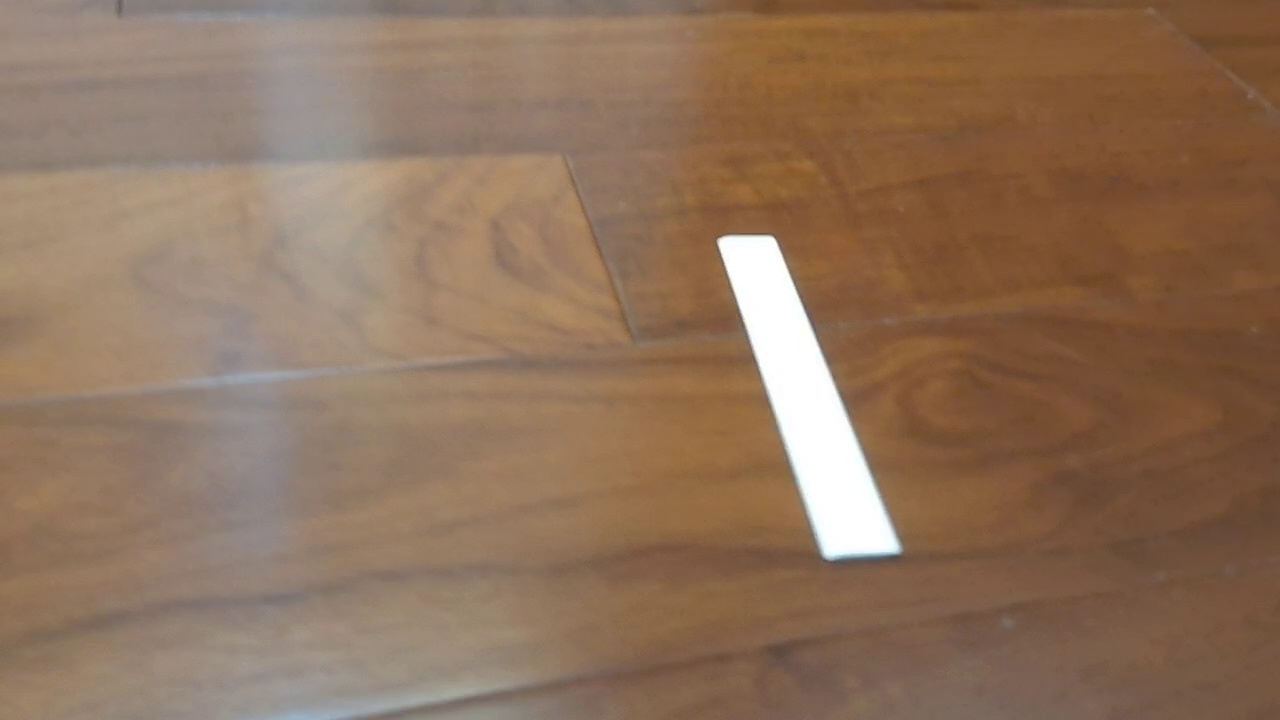ruler: (714, 232, 904, 564)
